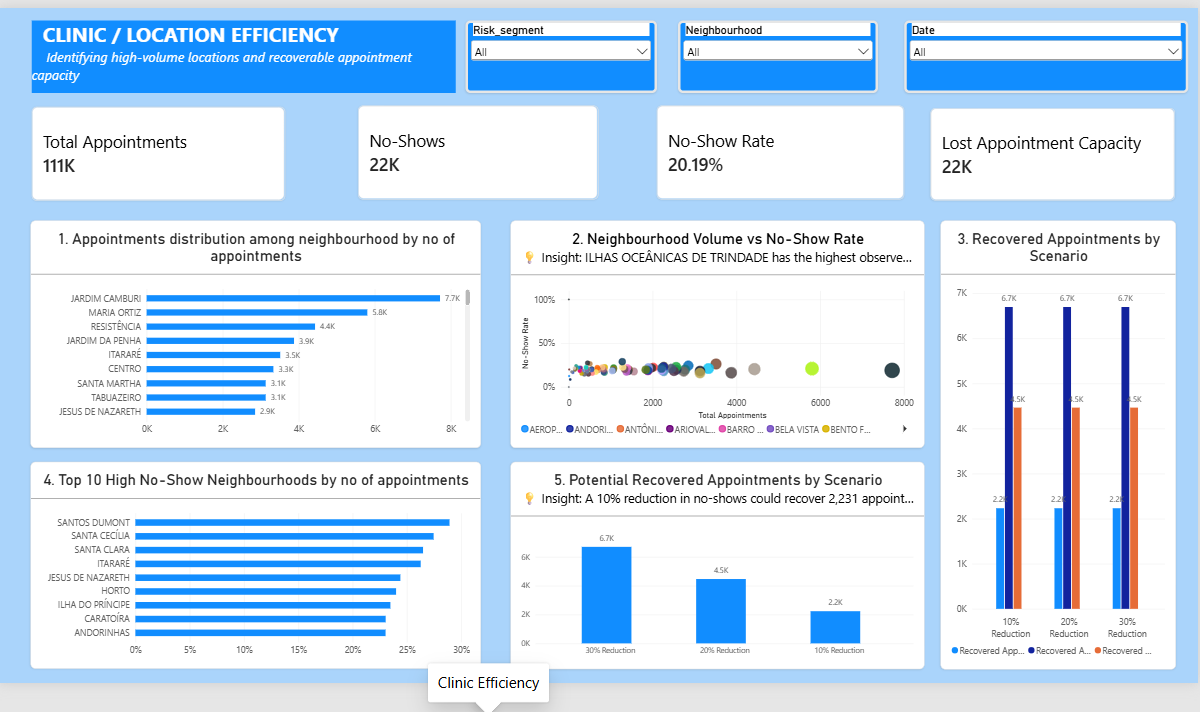

The page's visual inventory and layout, read from the dashboard file:
{"tool":"powerbi","page":{"name":"Clinic Efficiency","canvas":[1920,1080],"ordinal":2},"visuals":[{"type":"textbox","box":[9.3,0,724.1,135.2],"z":0},{"type":"cardVisual","fields":{"Data":["FactAppointments.Total Appointments"]},"box":[52.5,157.5,405.5,150.3],"z":2000},{"type":"cardVisual","fields":{"Data":["FactAppointments.No-Shows"]},"box":[576,156,384.9,150.3],"z":3000},{"type":"cardVisual","fields":{"Data":["FactAppointments.No-Show Rate"]},"box":[1054,156,323,150],"z":4000},{"type":"cardVisual","fields":{"Data":["FactAppointments.Lost Appointment Capacity"]},"box":[1480,158,391.1,148.2],"z":5000},{"type":"clusteredBarChart","title":"1. Appointments distribution among neighbourhood by no of appointments","fields":{"Category":["DimLocation.neighbourhood"],"Y":["FactAppointments.Total Appointments"]},"box":[51.5,339.6,720.4,364.3],"z":6000},{"type":"clusteredBarChart","title":"4. Top 10 High No-Show Neighbourhoods by no of appointments","fields":{"Category":["DimLocation.neighbourhood"],"Y":["FactAppointments.No-Show Rate"]},"box":[51.5,726.6,720.4,331.4],"z":7000},{"type":"scatterChart","title":"2. Neighbourhood Volume vs No-Show Rate","fields":{"X":["FactAppointments.Total Appointments"],"Y":["FactAppointments.No-Show Rate"],"Series":["DimLocation.neighbourhood"],"Size":["FactAppointments.Total Appointments"]},"box":[819.2,339.6,662.8,364.3],"z":8000},{"type":"clusteredColumnChart","title":"3. Recovered Appointments by Scenario","fields":{"Y":["FactAppointments.Recovered Appointments - 10%","FactAppointments.Recovered Appointments - 30%","FactAppointments.Recovered Appointments - 20%"],"Category":["Recovery Scenario.Scenario"]},"box":[1508.8,339.6,376.7,718.4],"z":9000},{"type":"clusteredColumnChart","title":"5. Potential Recovered Appointments by Scenario","fields":{"Y":["FactAppointments.Potential Recovered Appointments"],"Category":["Recovery Scenario.Scenario"]},"box":[820,726,662,332],"z":10000},{"type":"slicer","fields":{"Values":["DimDate.year_month"]},"box":[1450,0,453.7,131.5],"z":11000},{"type":"slicer","fields":{"Values":["DimLocation.neighbourhood"]},"box":[1088.9,0,318.5,131.5],"z":12000},{"type":"slicer","fields":{"Values":["FactAppointments.risk_segment"]},"box":[748.1,0,305.6,131.5],"z":13000}]}

Visuals, with their boxes on the page's 1920x1080 design canvas (x1, y1, x2, y2). These are canvas units, not pixel positions in the 1200x712 screenshot, which may show the page scaled, cropped or inside an application window:
textbox: {"x1": 9, "y1": 0, "x2": 733, "y2": 135}
cardVisual - FactAppointments.Total Appointments: {"x1": 52, "y1": 158, "x2": 458, "y2": 308}
cardVisual - FactAppointments.No-Shows: {"x1": 576, "y1": 156, "x2": 961, "y2": 306}
cardVisual - FactAppointments.No-Show Rate: {"x1": 1054, "y1": 156, "x2": 1377, "y2": 306}
cardVisual - FactAppointments.Lost Appointment Capacity: {"x1": 1480, "y1": 158, "x2": 1871, "y2": 306}
"1. Appointments distribution among neighbourhood by no of appointments" clusteredBarChart: {"x1": 52, "y1": 340, "x2": 772, "y2": 704}
"4. Top 10 High No-Show Neighbourhoods by no of appointments" clusteredBarChart: {"x1": 52, "y1": 727, "x2": 772, "y2": 1058}
"2. Neighbourhood Volume vs No-Show Rate" scatterChart: {"x1": 819, "y1": 340, "x2": 1482, "y2": 704}
"3. Recovered Appointments by Scenario" clusteredColumnChart: {"x1": 1509, "y1": 340, "x2": 1886, "y2": 1058}
"5. Potential Recovered Appointments by Scenario" clusteredColumnChart: {"x1": 820, "y1": 726, "x2": 1482, "y2": 1058}
slicer - DimDate.year_month: {"x1": 1450, "y1": 0, "x2": 1904, "y2": 132}
slicer - DimLocation.neighbourhood: {"x1": 1089, "y1": 0, "x2": 1407, "y2": 132}
slicer - FactAppointments.risk_segment: {"x1": 748, "y1": 0, "x2": 1054, "y2": 132}
